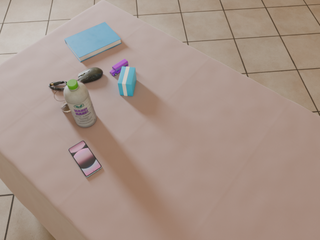book: (65, 22, 121, 62)
bottle: (63, 79, 96, 127)
box: (118, 66, 136, 96)
cup: (54, 89, 70, 112)
mouse: (78, 67, 103, 83)
phone: (69, 141, 102, 177)
toy_car: (110, 59, 128, 76)
